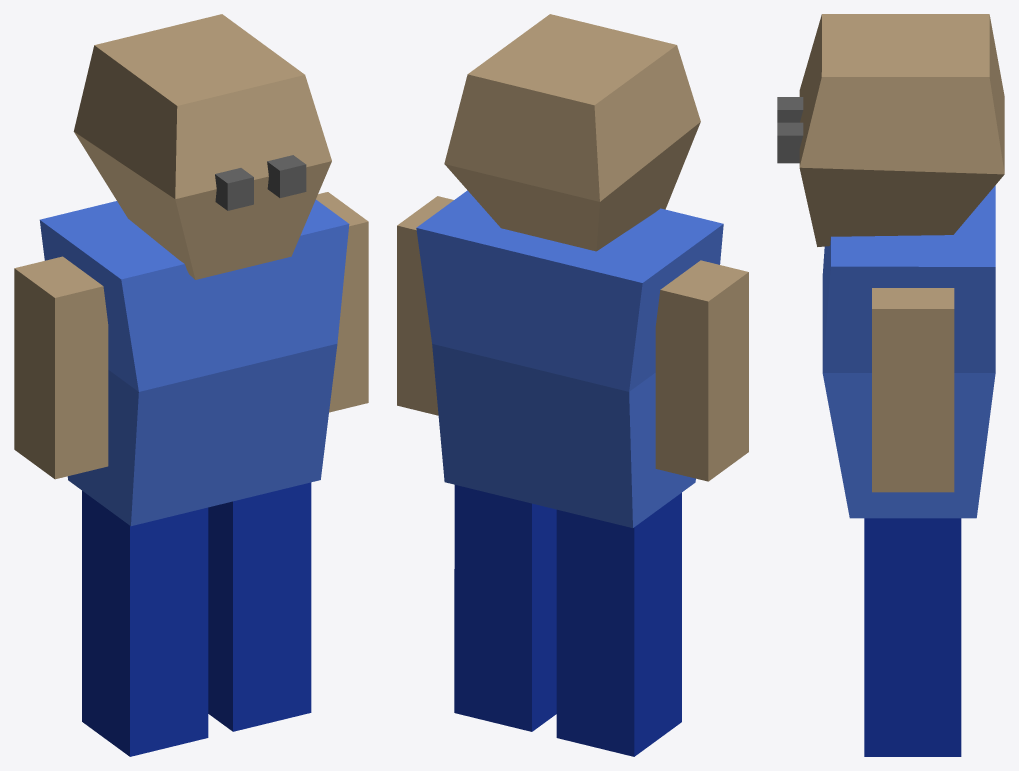
Rendered from TestPlayer.fbx.
The picture shows the model from 3 angles, left to right: view 1: azimuth 30°, elevation 25°; view 2: azimuth 150°, elevation 25°; view 3: azimuth 270°, elevation 25°; orthographic projection.
Parts seen in each view (by area): view 1: Torso, Head, Right Leg, Left Leg, Right Arm, Left Arm, Left Eye, Right Eye; view 2: Torso, Head, Right Leg, Left Leg, Right Arm, Left Arm; view 3: Head, Torso, Left Leg, Left Arm, Left Eye, Right Eye.
Part boxes in pixels (x1=…): Torso: x1=39, y1=199, x2=349, y2=526; Head: x1=73, y1=14, x2=331, y2=279; Right Leg: x1=82, y1=491, x2=208, y2=756; Left Leg: x1=208, y1=482, x2=311, y2=731; Right Arm: x1=14, y1=256, x2=108, y2=479; Left Arm: x1=316, y1=192, x2=368, y2=412; Left Eye: x1=267, y1=155, x2=306, y2=197; Right Eye: x1=215, y1=168, x2=253, y2=210; Torso: x1=416, y1=190, x2=723, y2=527; Head: x1=444, y1=14, x2=700, y2=251; Right Leg: x1=556, y1=492, x2=681, y2=756; Left Leg: x1=454, y1=485, x2=556, y2=731; Right Arm: x1=655, y1=260, x2=748, y2=481; Left Arm: x1=397, y1=196, x2=453, y2=415; Head: x1=799, y1=14, x2=1004, y2=246; Torso: x1=822, y1=185, x2=995, y2=518; Left Leg: x1=864, y1=518, x2=961, y2=756; Left Arm: x1=872, y1=288, x2=954, y2=492; Left Eye: x1=777, y1=122, x2=803, y2=163; Right Eye: x1=777, y1=97, x2=803, y2=122.
Bounding box in the file's own units: 0.9886 × 1.99 × 0.6151.
